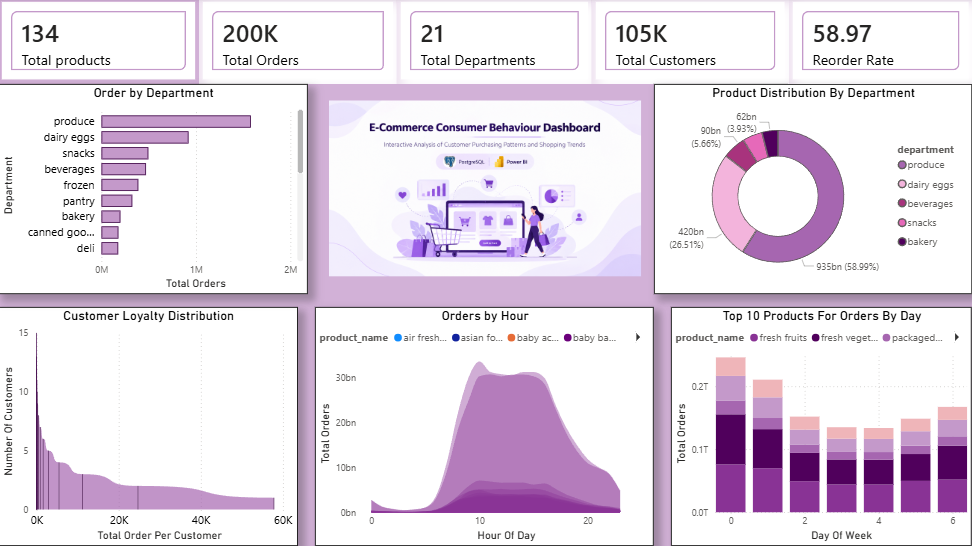

The dashboard page shown, as its layout file describes it:
{"tool":"powerbi","page":{"name":"Page 1","canvas":[1280,720],"ordinal":0},"visuals":[{"type":"cardVisual","title":"Total Products","fields":{"Data":["Sum(Total_Products.total_products)"]},"box":[0,0,264.3,112.9],"z":0},{"type":"cardVisual","fields":{"Data":["Sum(Total_Orders.total_orders)"]},"box":[263.8,0,260,112.5],"z":1000},{"type":"cardVisual","fields":{"Data":["Sum(Total_Departments.total_departments)"]},"box":[523.8,0,256.2,112.5],"z":2000},{"type":"cardVisual","fields":{"Data":["Sum(Total_Customers.total_customers)"]},"box":[780,0,258.8,112.5],"z":3000},{"type":"cardVisual","fields":{"Data":["Sum(Reorder_Rate.reorder_rate)"]},"box":[1038.8,0,241.2,112.5],"z":4000},{"type":"ribbonChart","title":"Customer Loyalty Distribution","fields":{"Category":["Customer Loyalty Distribution.customers"],"Y":["Sum(Customer Loyalty Distribution.total_orders)"]},"box":[0,406,394.2,314],"z":5000},{"type":"barChart","title":"Order by Department","fields":{"Category":["Query1.department"],"Y":["Sum(Query1.order_dow)"]},"box":[0,113,407.3,275.9],"z":6000},{"type":"lineChart","title":"Orders by Hour","fields":{"Series":["Query1.product_name"],"Y":["Sum(Query1.order_id)"],"Category":["Query1.order_hour_of_day"]},"box":[416.5,406,445.4,314],"z":7000},{"type":"donutChart","title":"Product Distribution By Department","fields":{"Category":["Query1.department"],"Y":["Sum(Query1.order_id)"]},"box":[861.9,113,417.8,275.9],"z":8000},{"type":"columnChart","title":"Top 10 Products For Orders By Day ","fields":{"Series":["Query1.product_name"],"Category":["Query1.order_dow"],"Y":["Sum(Query1.order_id)"]},"box":[884.2,406,395.5,314],"z":9000},{"type":"image","box":[434.9,111.7,409.9,277.2],"z":10000}]}

Visuals, with their boxes in screenshot pixels (x1, y1, x2, y2), scaled from the page's 1280x720 canvas onto the 972x546 screenshot:
"Total Products" cardVisual: (0,0,201,86)
cardVisual - Sum(Total_Orders.total_orders): (200,0,398,85)
cardVisual - Sum(Total_Departments.total_departments): (398,0,592,85)
cardVisual - Sum(Total_Customers.total_customers): (592,0,789,85)
cardVisual - Sum(Reorder_Rate.reorder_rate): (789,0,971,85)
"Customer Loyalty Distribution" ribbonChart: (0,308,299,545)
"Order by Department" barChart: (0,86,309,295)
"Orders by Hour" lineChart: (316,308,655,545)
"Product Distribution By Department" donutChart: (655,86,971,295)
"Top 10 Products For Orders By Day " columnChart: (671,308,971,545)
image: (330,85,642,295)
